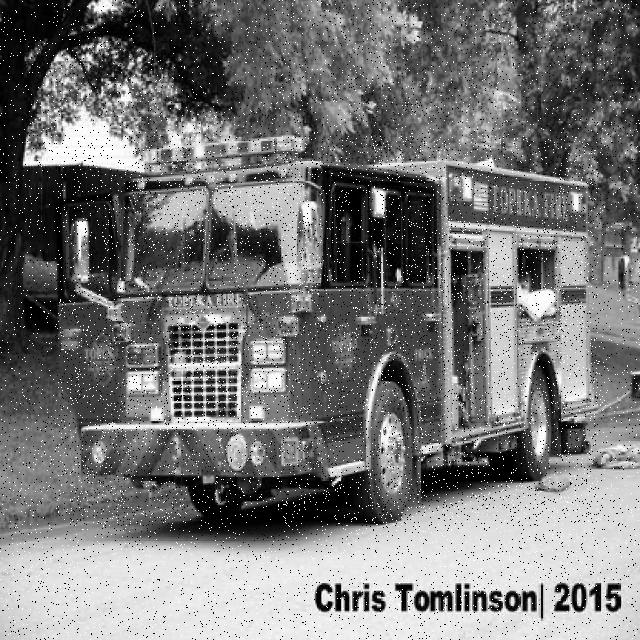Fire Truck: (58, 136, 598, 526)
